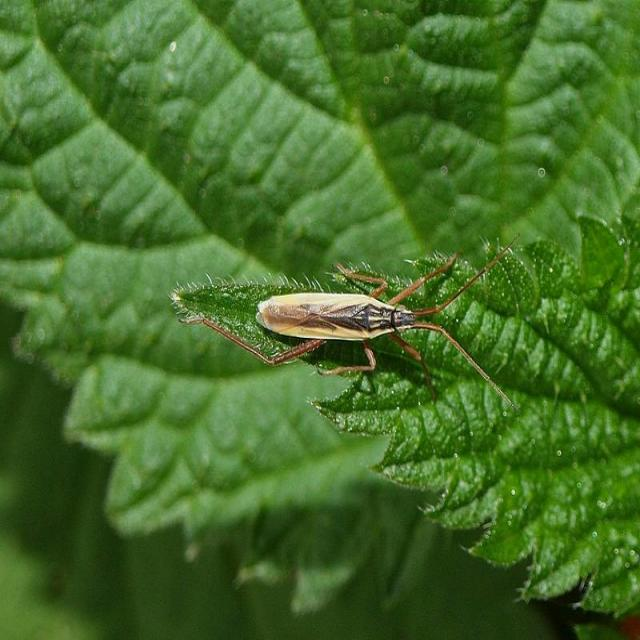Miridae-Adult-: (225, 261, 532, 404)
